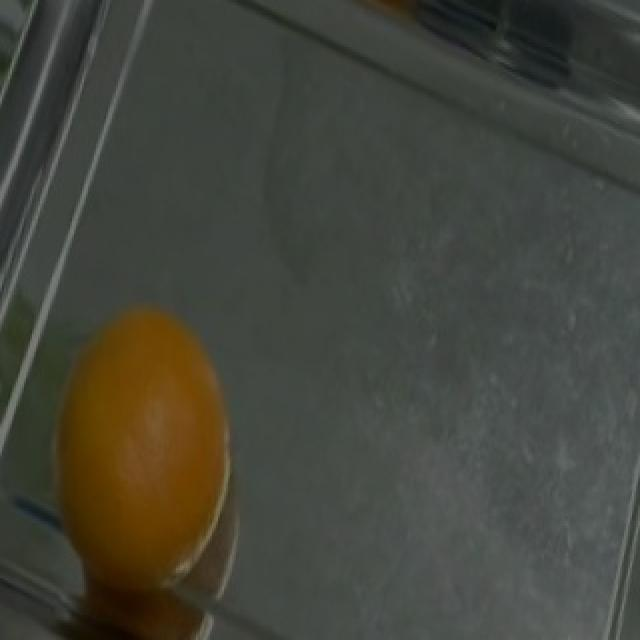Fruit: (20, 278, 254, 625)
